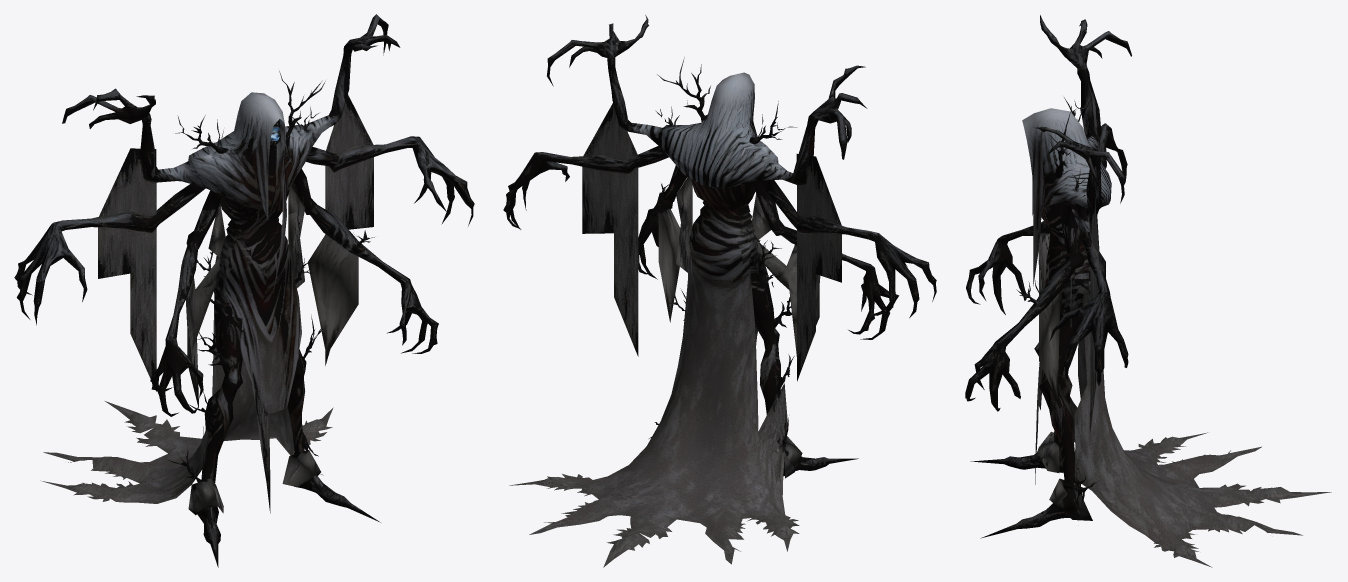
The model's file is 019e3663-cc98-74a4-92ed-5aaa8bb93656.glb.
3 renders of one model, left to right at view 1: azimuth 30°, elevation 25°; view 2: azimuth 150°, elevation 25°; view 3: azimuth 270°, elevation 25°, orthographic. The views are drawn at different scales.
Parts seen in each view (by area): view 1: tripo_node_b304e639-5fdb-492d-83b7-93305b187069; view 2: tripo_node_b304e639-5fdb-492d-83b7-93305b187069; view 3: tripo_node_b304e639-5fdb-492d-83b7-93305b187069.
Part boxes in pixels (x1=…): tripo_node_b304e639-5fdb-492d-83b7-93305b187069: x1=14, y1=14, x2=474, y2=567; tripo_node_b304e639-5fdb-492d-83b7-93305b187069: x1=503, y1=15, x2=936, y2=567; tripo_node_b304e639-5fdb-492d-83b7-93305b187069: x1=965, y1=15, x2=1331, y2=567.
Size of the model in its own units: 0.998 by 0.9863 by 0.7715.
Materials: 1 (1 with a texture image).
